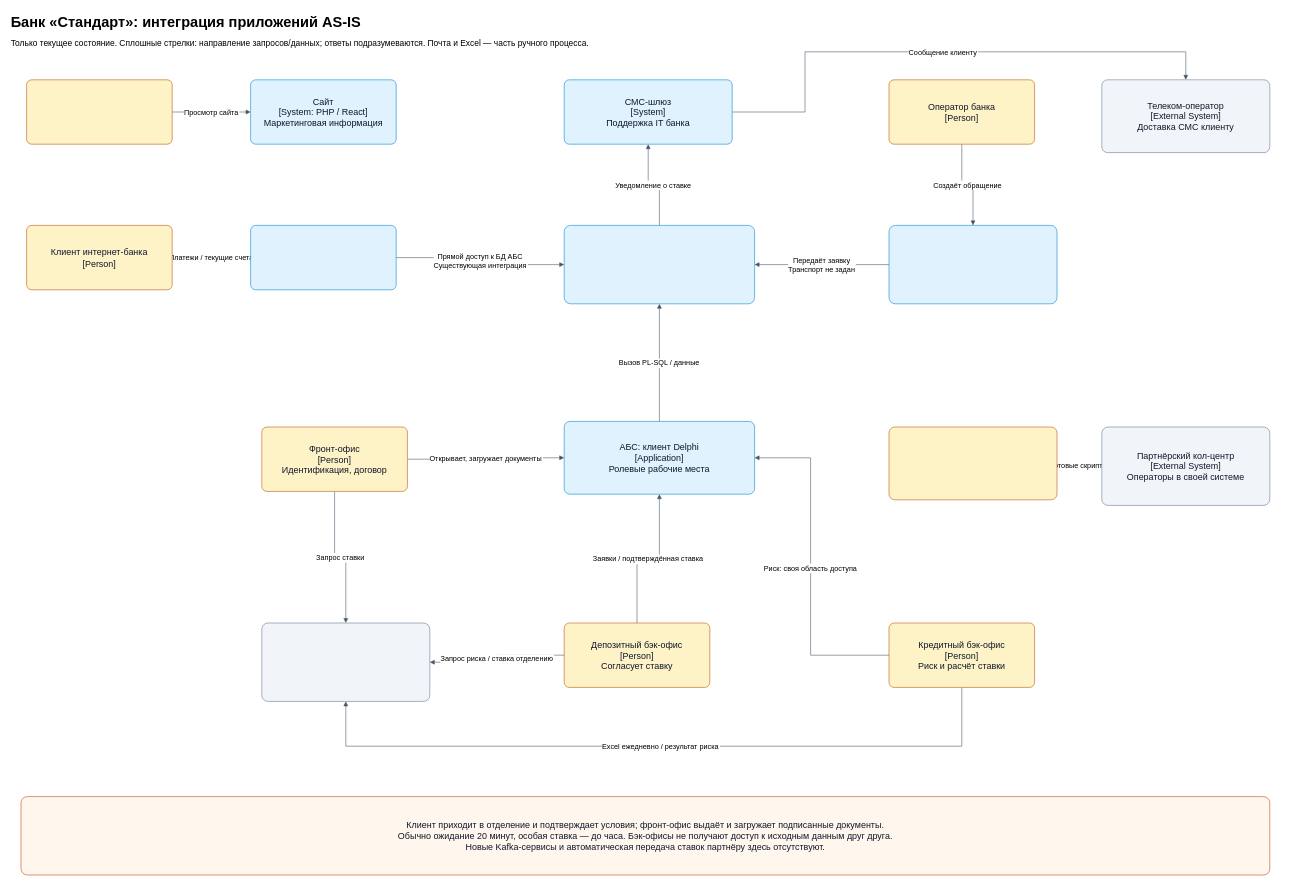
The diagram is 1296 pixels wide and 885 high, and some of its shapes have lost their labels. Each missing label, with the box of its shape:
Excel и почта [Рабочие инструменты] Ставки, запросы, результаты: (261, 622, 430, 701)
АБС: Oracle / PL-SQL [System storage] Счета, заявки, договоры: (564, 225, 755, 304)
Бизнес-представители [Person] Передают скрипты звонков: (888, 426, 1057, 500)
Интернет-банк [System: ASP.NET / MS SQL] Платежи, текущие счета: (250, 225, 396, 290)
Посетитель сайта [Person]: (26, 79, 172, 144)
Система кол-центра [System: React / Java / PG] Обращения: (888, 225, 1057, 304)
